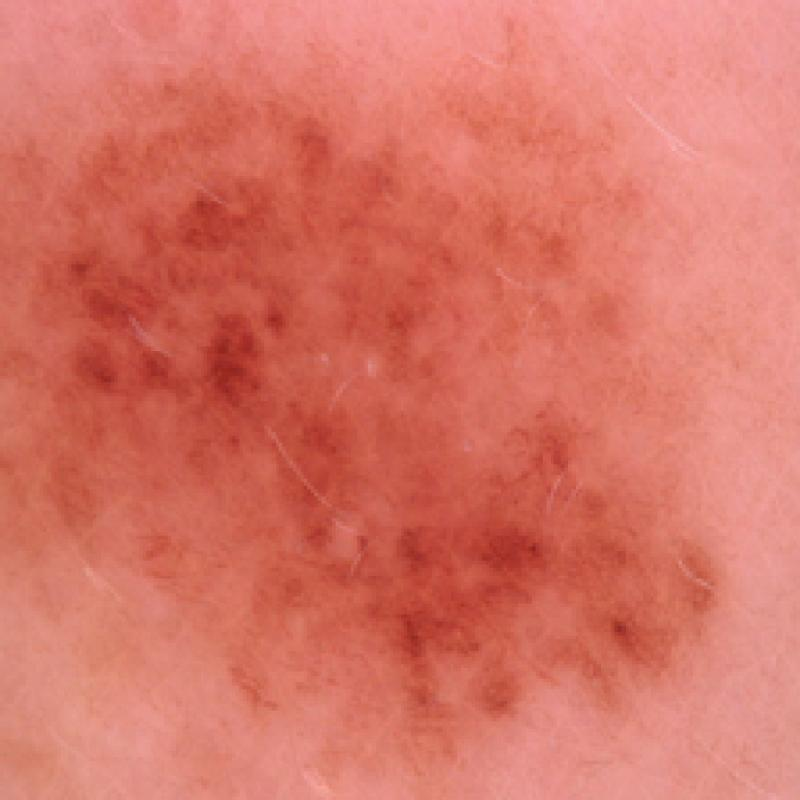benign: (8, 7, 780, 775)
